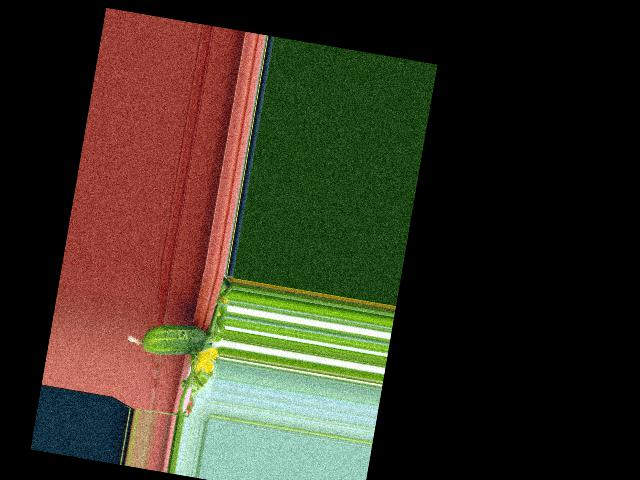cucumber: (125, 315, 208, 362)
